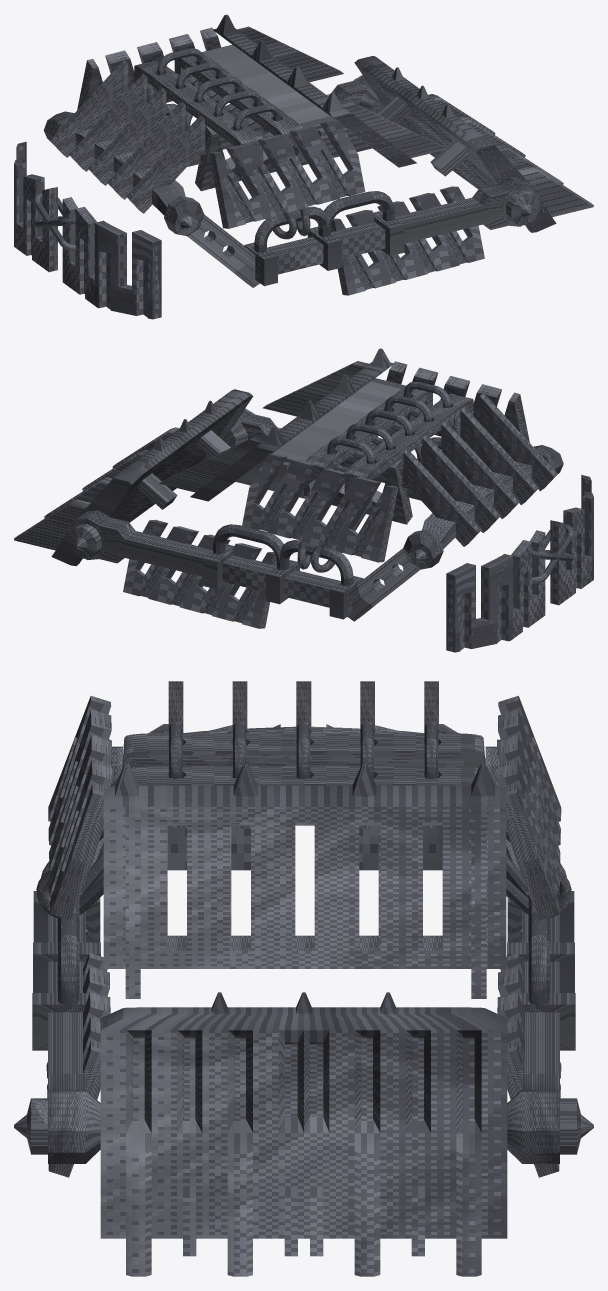
Rendered from Car_armor.fbx.
3 views of the same model, one above another, from view 1: azimuth 30°, elevation 25°; view 2: azimuth 150°, elevation 25°; view 3: azimuth 270°, elevation 25° (orthographic). The views are drawn at different scales.
Visible parts, largest first — view 1: Cylinder.015; view 2: Cylinder.015; view 3: Cylinder.015.
Boxes of the visible parts, x1,y1,x2,y2 form: Cylinder.015: [14, 14, 593, 319]; Cylinder.015: [14, 348, 593, 652]; Cylinder.015: [14, 681, 593, 1276].
Size of the model in its own units: 300 by 108 by 182.
1 material, 1 textured.
